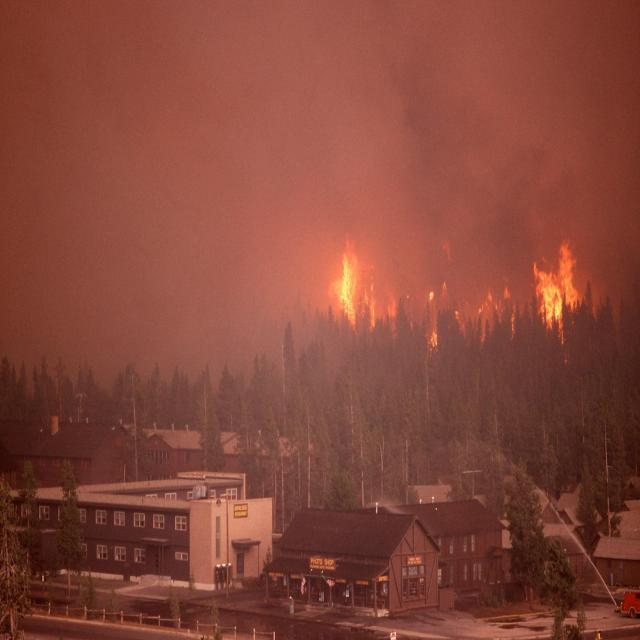Fire: (531, 236, 584, 348), (328, 232, 379, 330), (476, 282, 517, 342), (428, 331, 438, 352)
Smoke: (0, 4, 640, 228), (1, 230, 334, 382), (380, 230, 532, 293)
